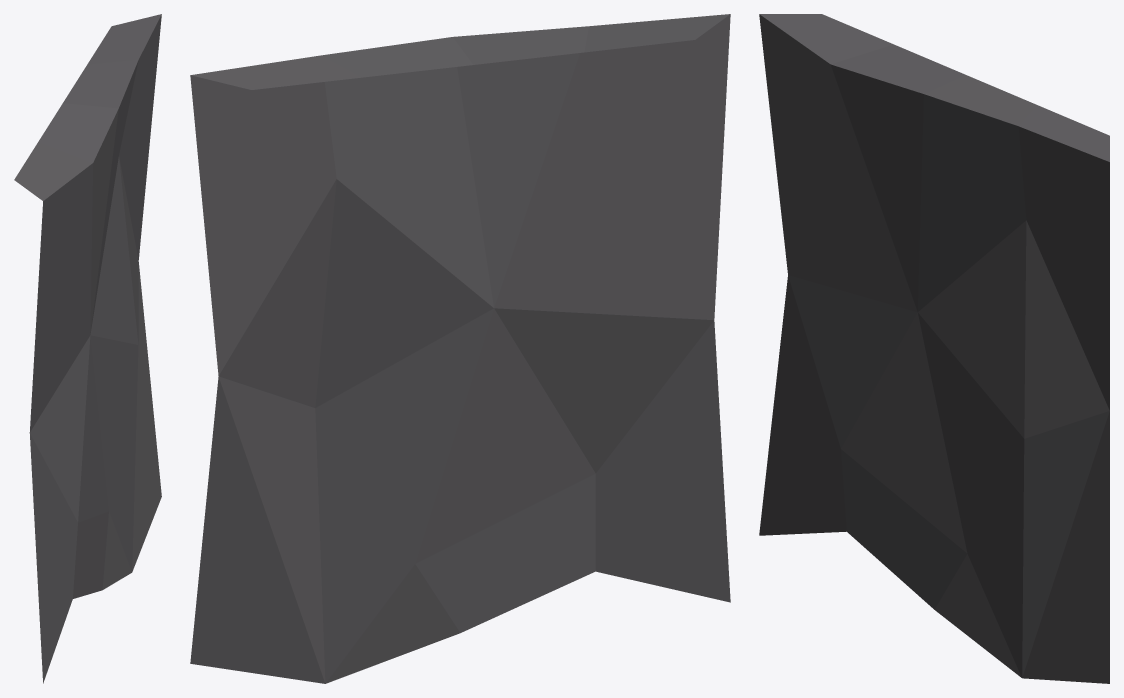
Rendered from mesh_nature_clif_top_corner.fbx.
3 renders of one model, left to right at view 1: azimuth 30°, elevation 25°; view 2: azimuth 150°, elevation 25°; view 3: azimuth 270°, elevation 25°, orthographic. The views are drawn at different scales.
Parts seen in each view (by area): view 1: mesh_nature_clif_top_corner; view 2: mesh_nature_clif_top_corner; view 3: mesh_nature_clif_top_corner.
Part boxes in pixels (x1=…): mesh_nature_clif_top_corner: x1=14, y1=14, x2=161, y2=683; mesh_nature_clif_top_corner: x1=190, y1=14, x2=730, y2=683; mesh_nature_clif_top_corner: x1=759, y1=14, x2=1109, y2=683.
Bounding box in the file's own units: 122 × 213 × 122.
